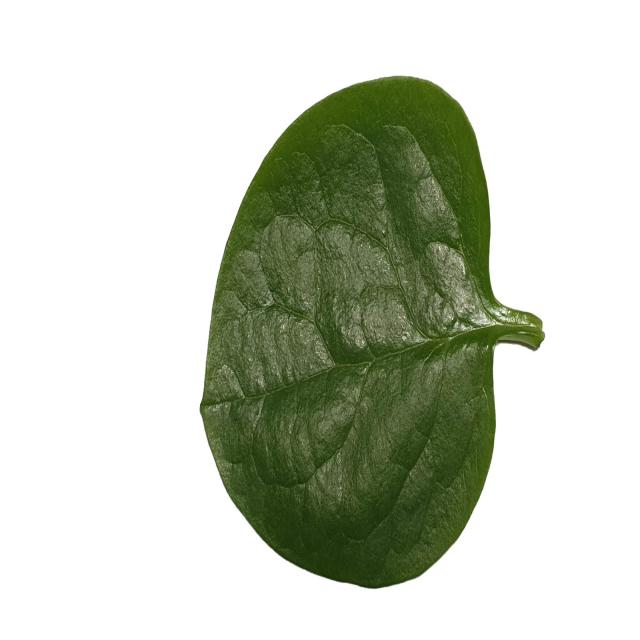Medicinal-Basale: (198, 71, 544, 591)
